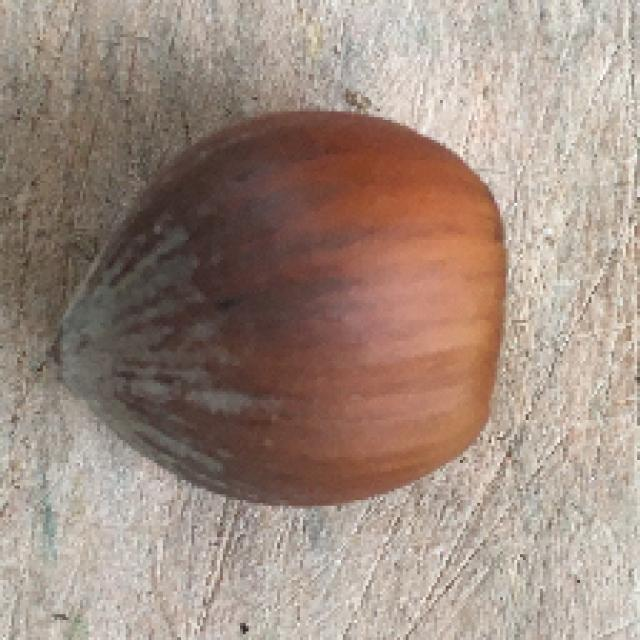qualityHazelnut: (55, 111, 512, 513)
